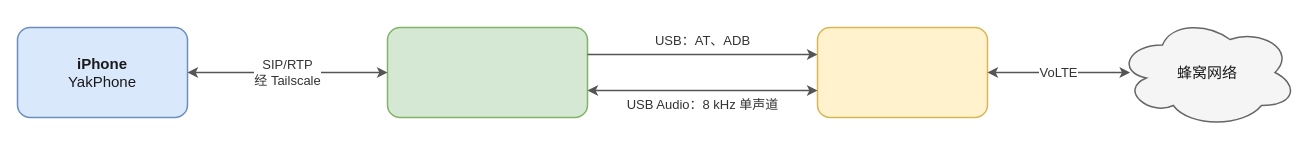
Image size: 1316x146. Some labels were removed from this diagram. Here are the shapes that lost their labels. From the top down, the centre of each, then its label:
the point at 487,72: NAS 网关容器
the point at 902,72: QDC507 + SIM
